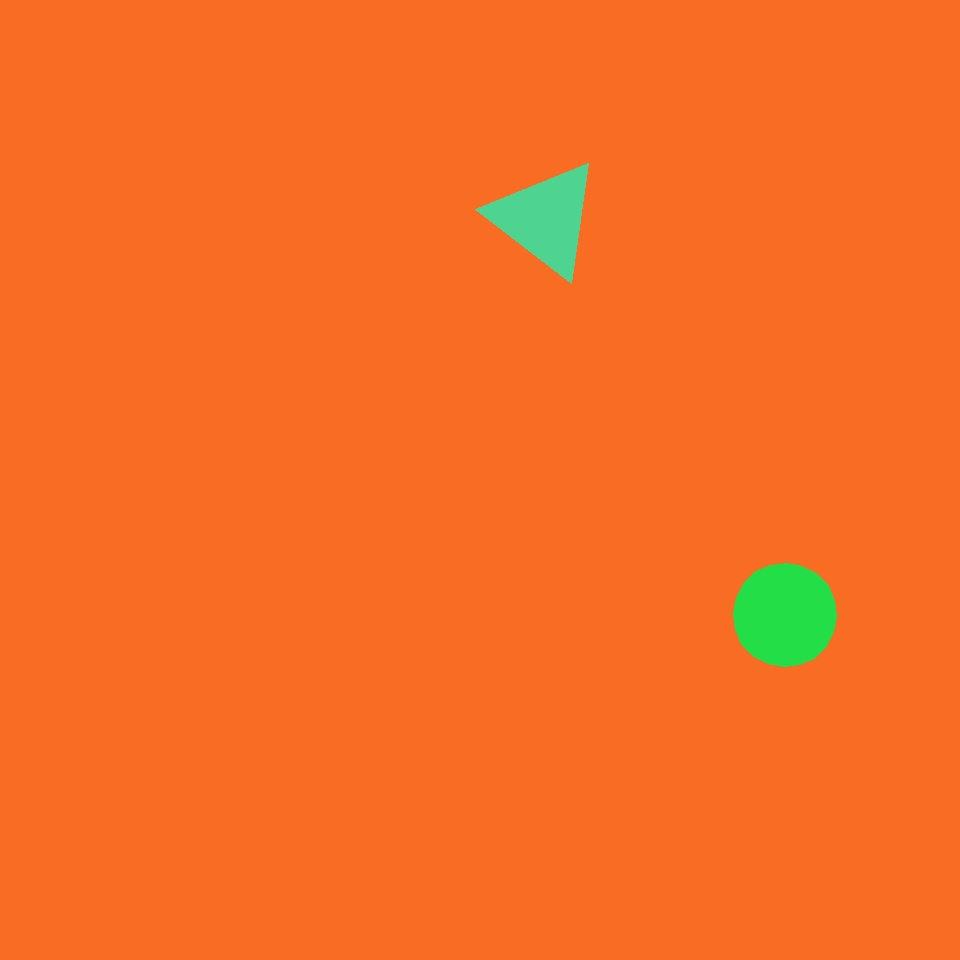circle: (739, 98, 920, 298), (639, 373, 804, 552), (489, 159, 602, 279), (211, 578, 323, 682)
square: (118, 381, 281, 544), (652, 604, 746, 698)
triangle: (299, 483, 596, 780), (734, 564, 836, 666)
